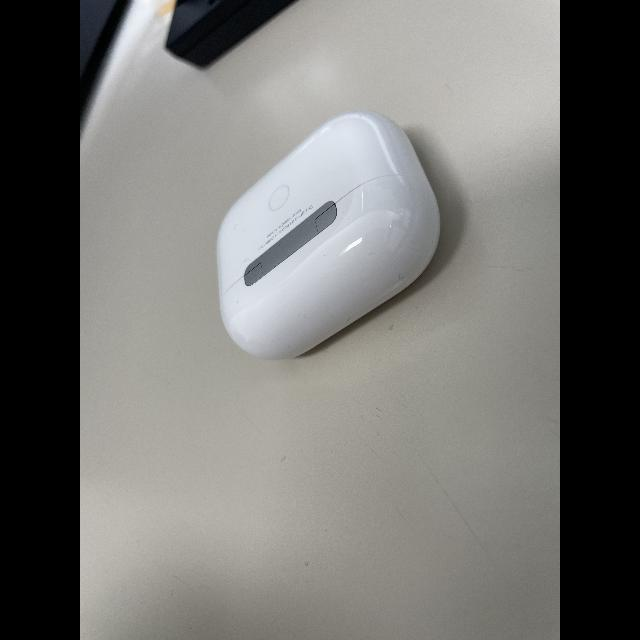airpod3: (209, 106, 449, 364)
